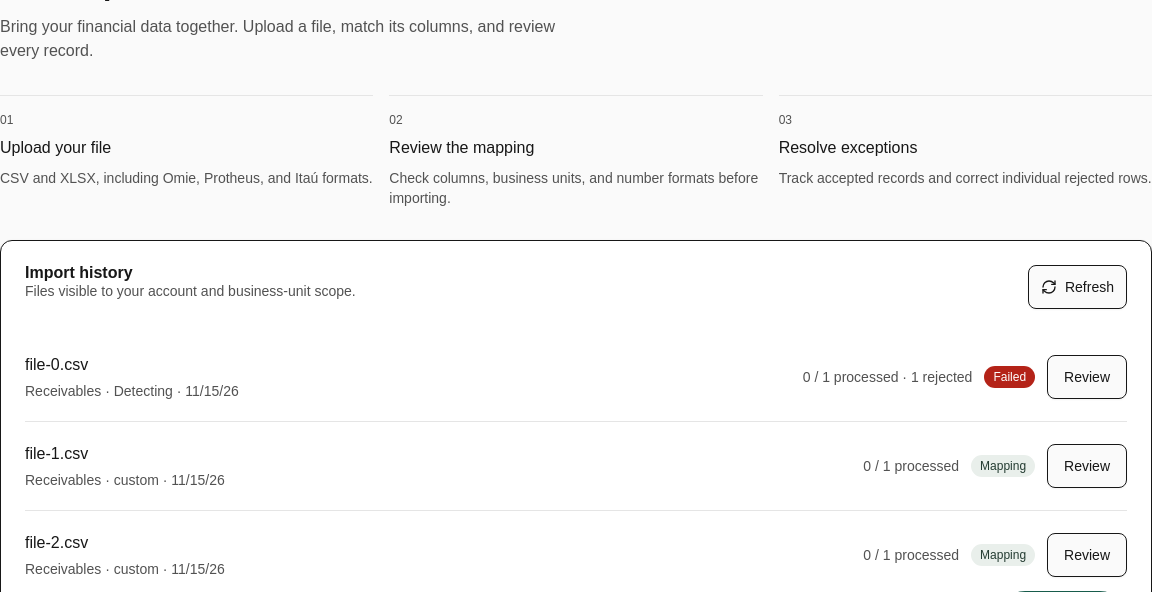
lists imports, links to details and preserves paginated history
Click the button "Refresh" at (1078, 287), box top-left (1028, 265), bottom-right (1127, 309)
(page scrolled)
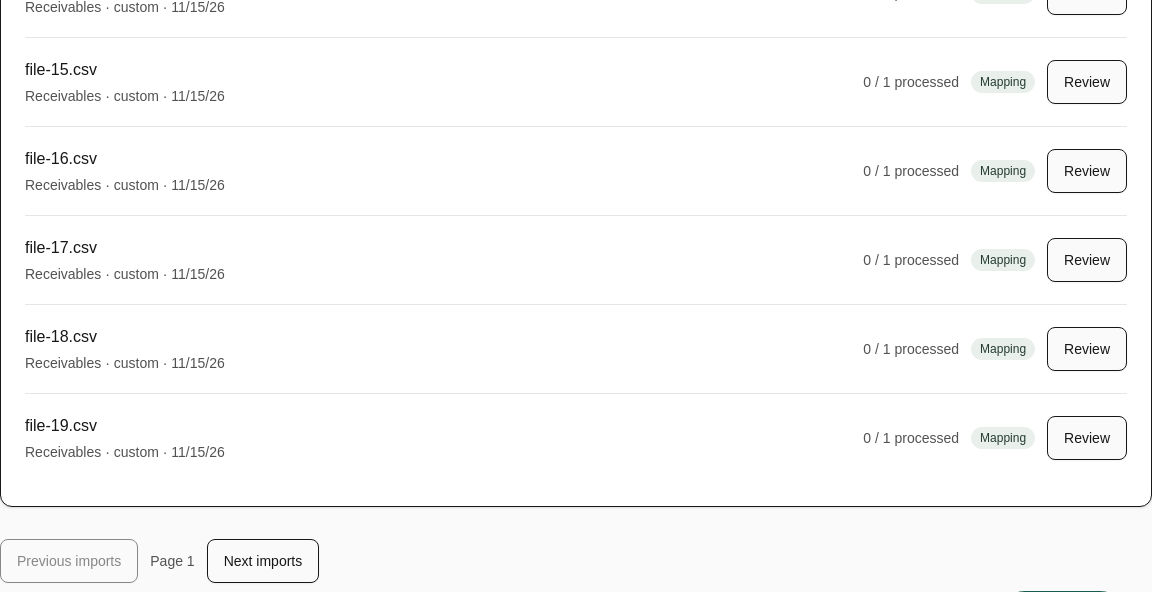
Click the button "Next imports" at (263, 561), box top-left (207, 539), bottom-right (319, 583)
(page scrolled)
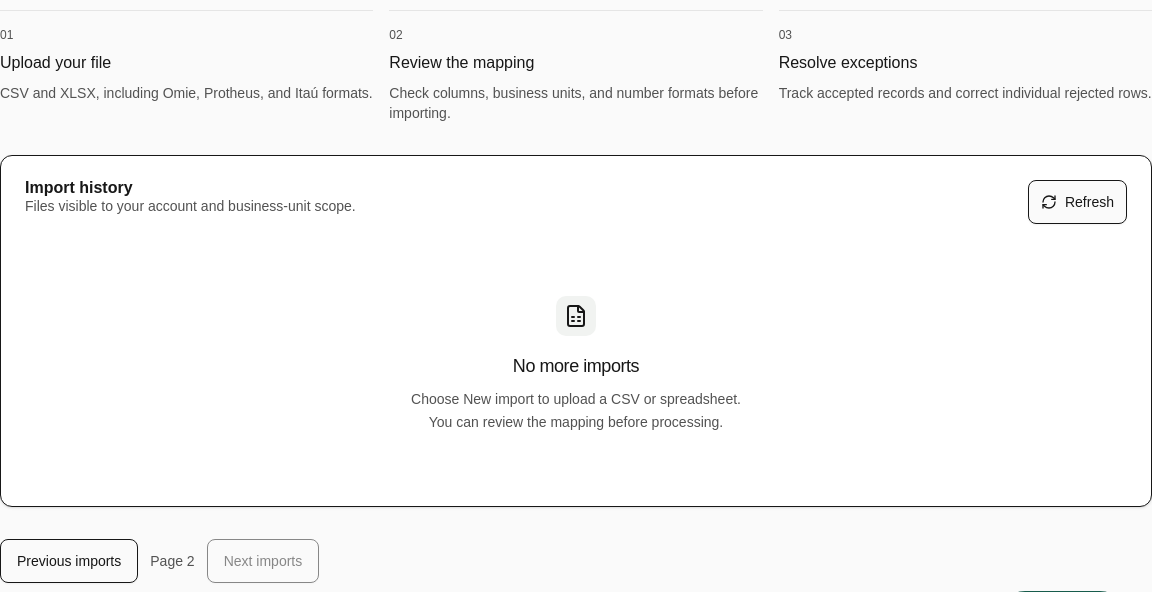
Now the text "No more imports" is shown, box top-left (513, 352), bottom-right (639, 380)
Click the button "Previous imports" at (69, 560), box top-left (0, 538), bottom-right (138, 582)
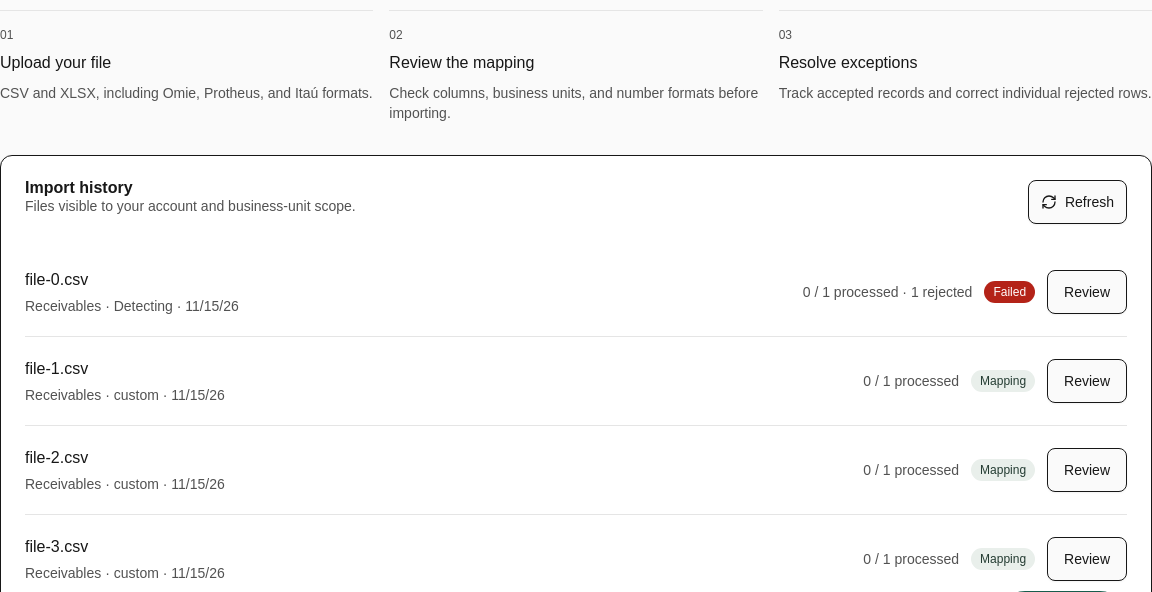
Now the link "file-0.csv" is shown, box top-left (25, 271), bottom-right (88, 288)
